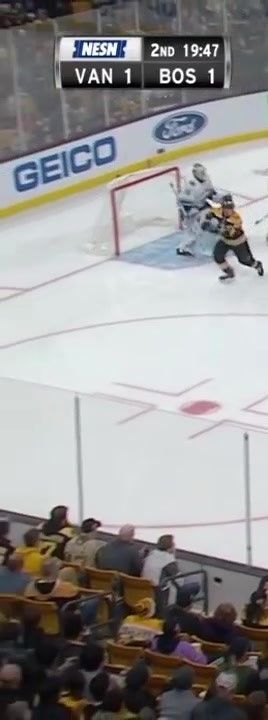Geico: (8, 134, 124, 207)
